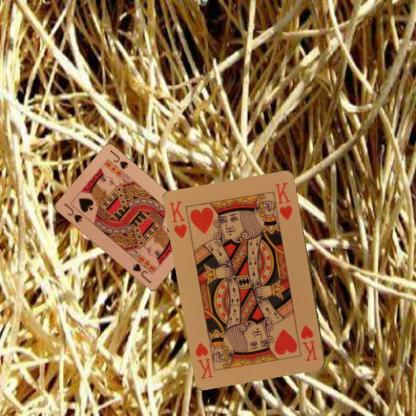Js: (61, 201, 83, 224)
Kh: (298, 322, 320, 363), (167, 199, 189, 240)
